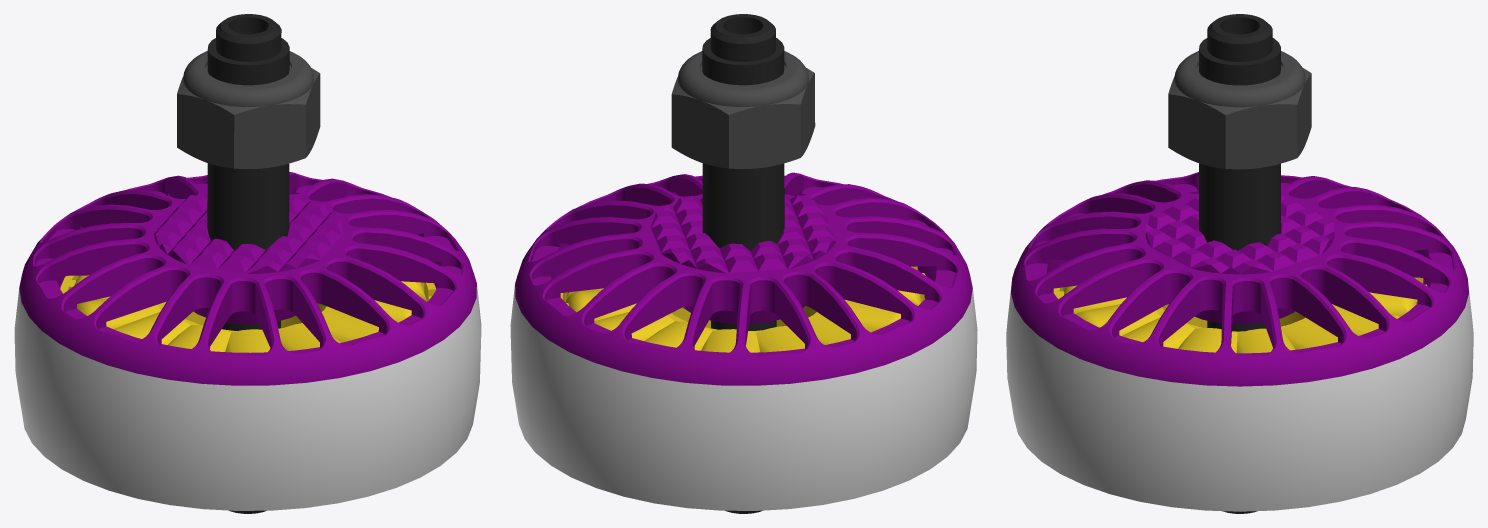
The model's file is Motor1.fbx.
3 views of the same model, side by side, from view 1: azimuth 30°, elevation 25°; view 2: azimuth 150°, elevation 25°; view 3: azimuth 270°, elevation 25° (orthographic).
Parts seen in each view (by area): view 1: MotorShell.005, Nuts.002, axels.005, coils.002; view 2: MotorShell.005, Nuts.002, axels.005, coils.002; view 3: MotorShell.005, Nuts.002, axels.005, coils.002.
Boxes of the visible parts, x1,y1,x2,y2 form: MotorShell.005: (14, 172, 481, 510); Nuts.002: (177, 51, 320, 168); axels.005: (207, 14, 289, 513); coils.002: (60, 275, 436, 352); MotorShell.005: (510, 172, 977, 510); Nuts.002: (671, 51, 815, 168); axels.005: (702, 14, 784, 513); coils.002: (560, 266, 925, 352); MotorShell.005: (1006, 172, 1473, 511); Nuts.002: (1168, 51, 1311, 169); axels.005: (1199, 14, 1280, 513); coils.002: (1053, 277, 1426, 353).
Bounding box in the file's own units: 81.38 × 91.63 × 81.44.
